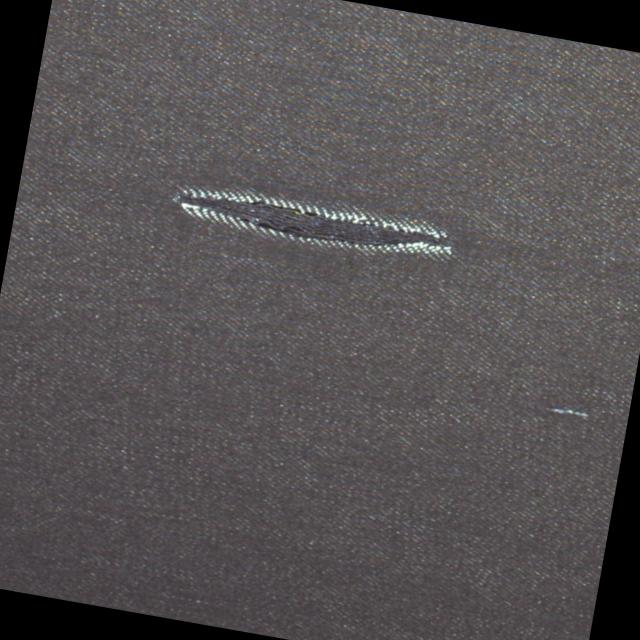hole: (167, 176, 462, 270)
